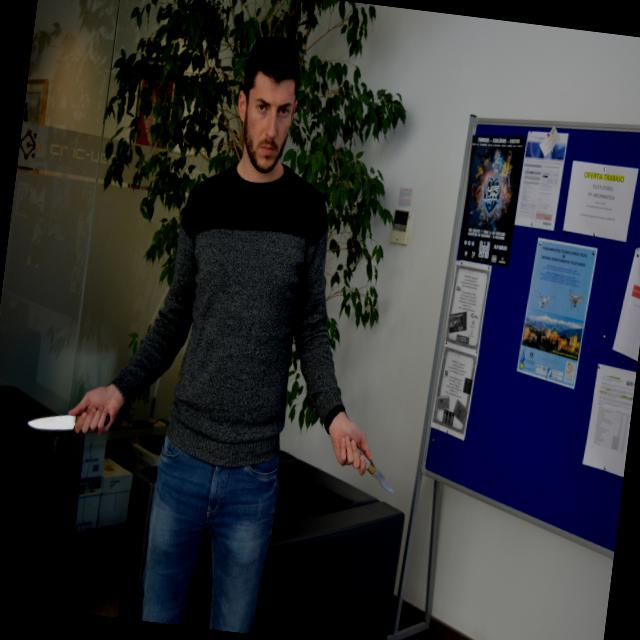knife: (21, 400, 112, 444), (346, 439, 404, 499)
